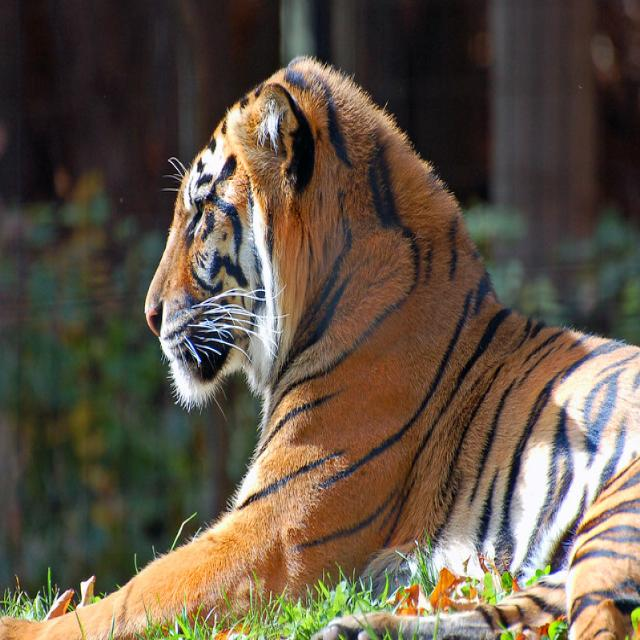Tiger: (75, 53, 639, 639)
